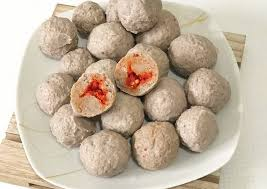bakso: (35, 6, 232, 163)
